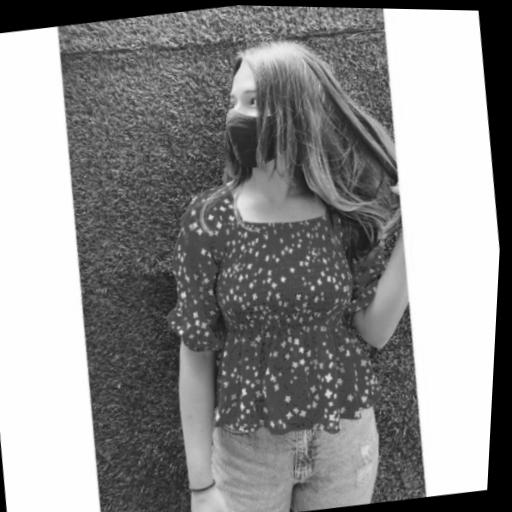mask: (217, 70, 278, 172)
